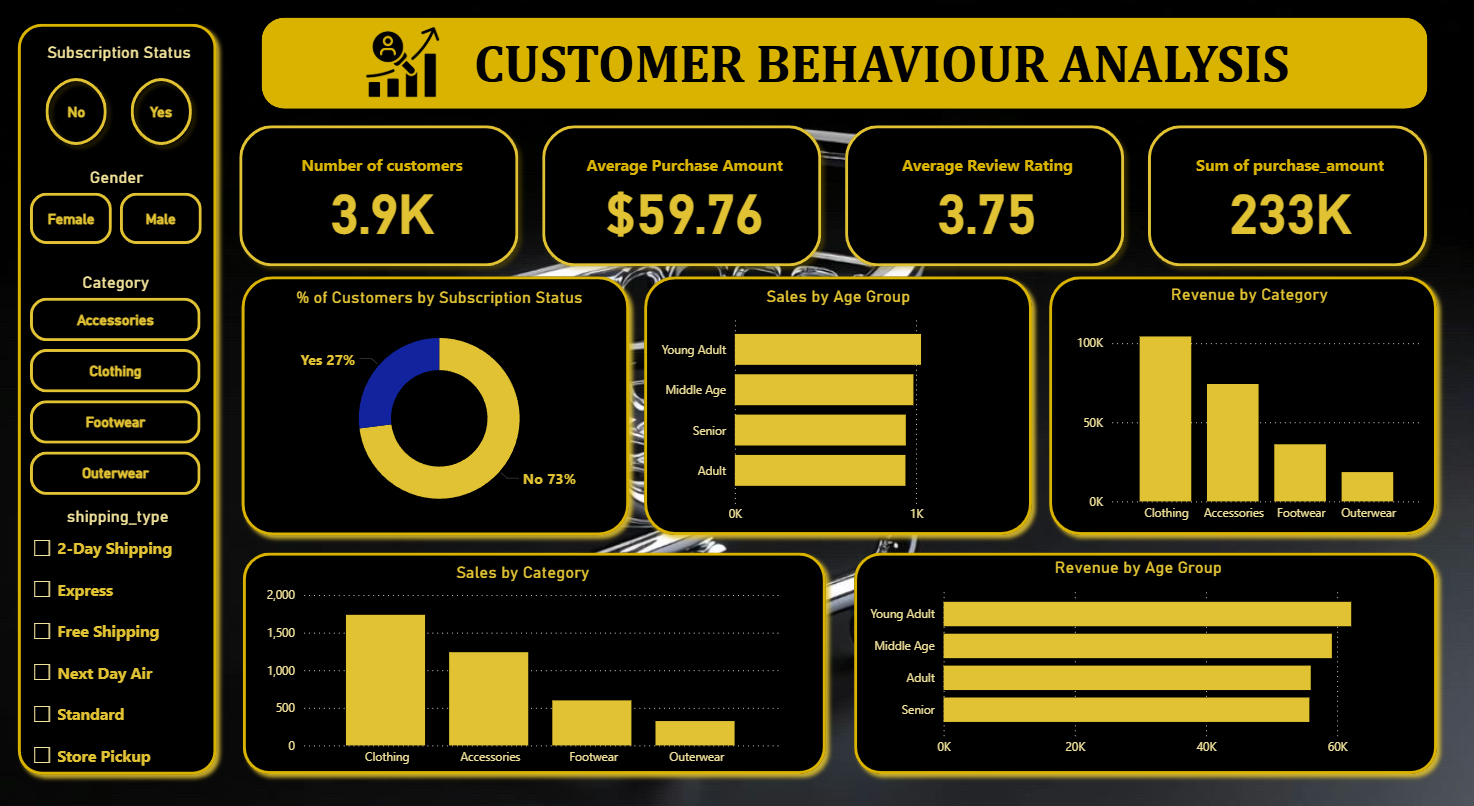

Layout of this report page (visuals, bound fields, positions):
{"tool":"powerbi","page":{"name":"Page 1","canvas":[1500,820],"ordinal":0},"visuals":[{"type":"group","id":"g1","title":"Group 2","box":[237.1,271.2,1231.8,280.7],"z":0},{"type":"shape","box":[238.5,551.9,609.2,242.6],"z":0,"group":"g2"},{"type":"shape","box":[9.5,15,219.4,779.4],"z":1000},{"type":"shape","box":[858.4,551.9,609.2,242.6],"z":1000,"group":"g2"},{"type":"group","id":"g2","title":"Group 1","box":[238.5,551.9,1229.1,242.6],"z":2000},{"type":"cardVisual","fields":{"Data":["public customer.Number of customers","public customer.Average Purchase Amount","public customer.Average Review Rating","Sum(public customer.purchase_amount)"]},"box":[227.6,110.4,1240,177.1],"z":3000},{"type":"clusteredColumnChart","title":"Revenue by Category","fields":{"Category":["public customer.category"],"Y":["Sum(public customer.purchase_amount)"]},"box":[1087.4,287.5,361.1,250.7],"z":4000},{"type":"clusteredColumnChart","title":"Sales by Category","fields":{"Category":["public customer.category"],"Y":["CountNonNull(public customer.customer_id)"]},"box":[266.6,570.2,530.4,215.7],"z":5000},{"type":"advancedSlicerVisual","title":"Subscription Status","fields":{"Values":["public customer.subscription_status"]},"box":[30,43.6,182.6,121.3],"z":6000},{"type":"advancedSlicerVisual","title":"Gender","fields":{"Values":["public customer.gender"]},"box":[27.3,170.3,185.3,77.7],"z":7000},{"type":"advancedSlicerVisual","title":"Category","fields":{"Values":["public customer.category"]},"box":[27.3,276.6,184,226.2],"z":8000},{"type":"listSlicer","fields":{"Values":["public customer.shipping_type"]},"box":[28.6,513.7,182.6,269.8],"z":9000},{"type":"clusteredBarChart","title":"Revenue by Age Group","fields":{"Y":["Sum(public customer.purchase_amount)"],"Category":["public customer.age_group"]},"box":[871.7,565,566.7,210],"z":10000},{"type":"clusteredBarChart","title":"Sales by Age Group","fields":{"Y":["CountNonNull(public customer.customer_id)"],"Category":["public customer.age_group"]},"box":[660.9,290.2,381.5,249.4],"z":11000},{"type":"shape","box":[265.7,17.7,1182.8,92.7],"z":12000},{"type":"textbox","box":[477.2,28.3,845.6,72.2],"z":13000},{"type":"image","box":[344.8,15,128.1,92.7],"z":14000},{"type":"shape","box":[237.1,271.2,411.1,280.7],"z":14000,"group":"g1"},{"type":"donutChart","title":"% of Customers by Subscription Status","fields":{"Category":["public customer.subscription_status"],"Y":["CountNonNull(public customer.customer_id)"]},"box":[267.1,291.6,358.4,246.6],"z":15000},{"type":"shape","box":[644.9,271.2,411.4,280.3],"z":16000,"group":"g1"},{"type":"shape","box":[1056.2,271.2,411.4,280.3],"z":17000,"group":"g1"}]}

Visuals, with their boxes in screenshot pixels (x1, y1, x2, y2), scaled from the page's 1500x820 canvas onto the 1474x806 screenshot:
"Group 2" group: [233, 267, 1443, 542]
shape: [234, 542, 833, 781]
shape: [9, 15, 225, 781]
shape: [844, 542, 1442, 781]
"Group 1" group: [234, 542, 1442, 781]
cardVisual - public customer.Number of customers x public customer.Average Purchase Amount: [224, 109, 1442, 283]
"Revenue by Category" clusteredColumnChart: [1069, 283, 1423, 529]
"Sales by Category" clusteredColumnChart: [262, 560, 783, 772]
"Subscription Status" advancedSlicerVisual: [29, 43, 209, 162]
"Gender" advancedSlicerVisual: [27, 167, 209, 244]
"Category" advancedSlicerVisual: [27, 272, 208, 494]
listSlicer - public customer.shipping_type: [28, 505, 208, 770]
"Revenue by Age Group" clusteredBarChart: [857, 555, 1413, 762]
"Sales by Age Group" clusteredBarChart: [649, 285, 1024, 530]
shape: [261, 17, 1423, 109]
textbox: [469, 28, 1300, 99]
image: [339, 15, 465, 106]
shape: [233, 267, 637, 542]
"% of Customers by Subscription Status" donutChart: [262, 287, 615, 529]
shape: [634, 267, 1038, 542]
shape: [1038, 267, 1442, 542]
